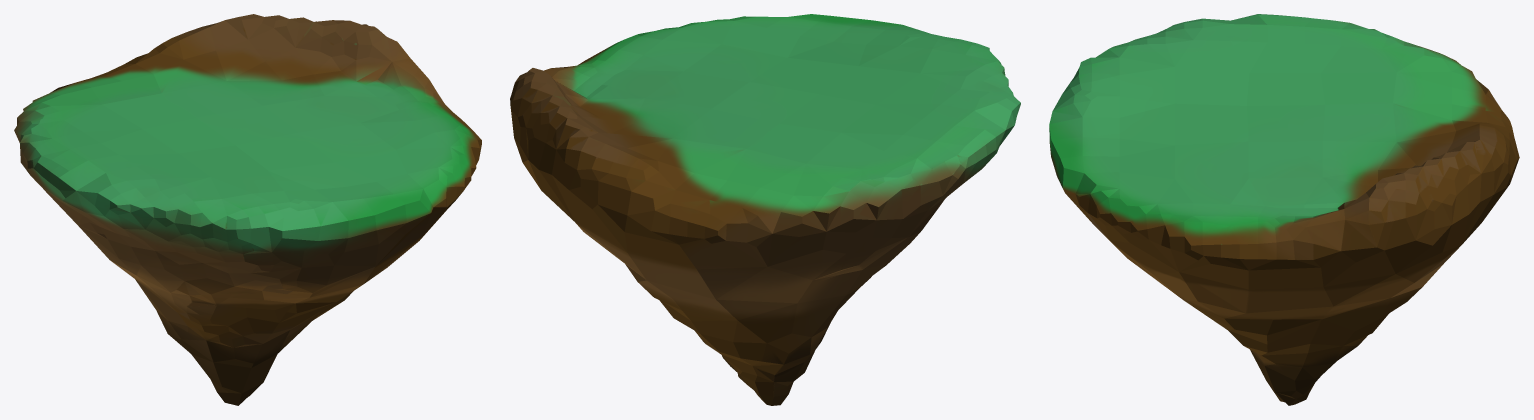
File: BigIsland.glb
The picture shows the model from 3 angles, left to right: view 1: azimuth 30°, elevation 25°; view 2: azimuth 150°, elevation 25°; view 3: azimuth 270°, elevation 25°; orthographic projection. The views are drawn at different scales.
Parts seen in each view (by area): view 1: Icosphere; view 2: Icosphere; view 3: Icosphere.
Part boxes in pixels (left/top/right/bottom): Icosphere: left=14, top=14, right=481, bottom=405; Icosphere: left=510, top=14, right=1020, bottom=405; Icosphere: left=1049, top=14, right=1519, bottom=405.
Bounding box in the file's own units: 773 × 551 × 760.
1 material, 1 textured.
